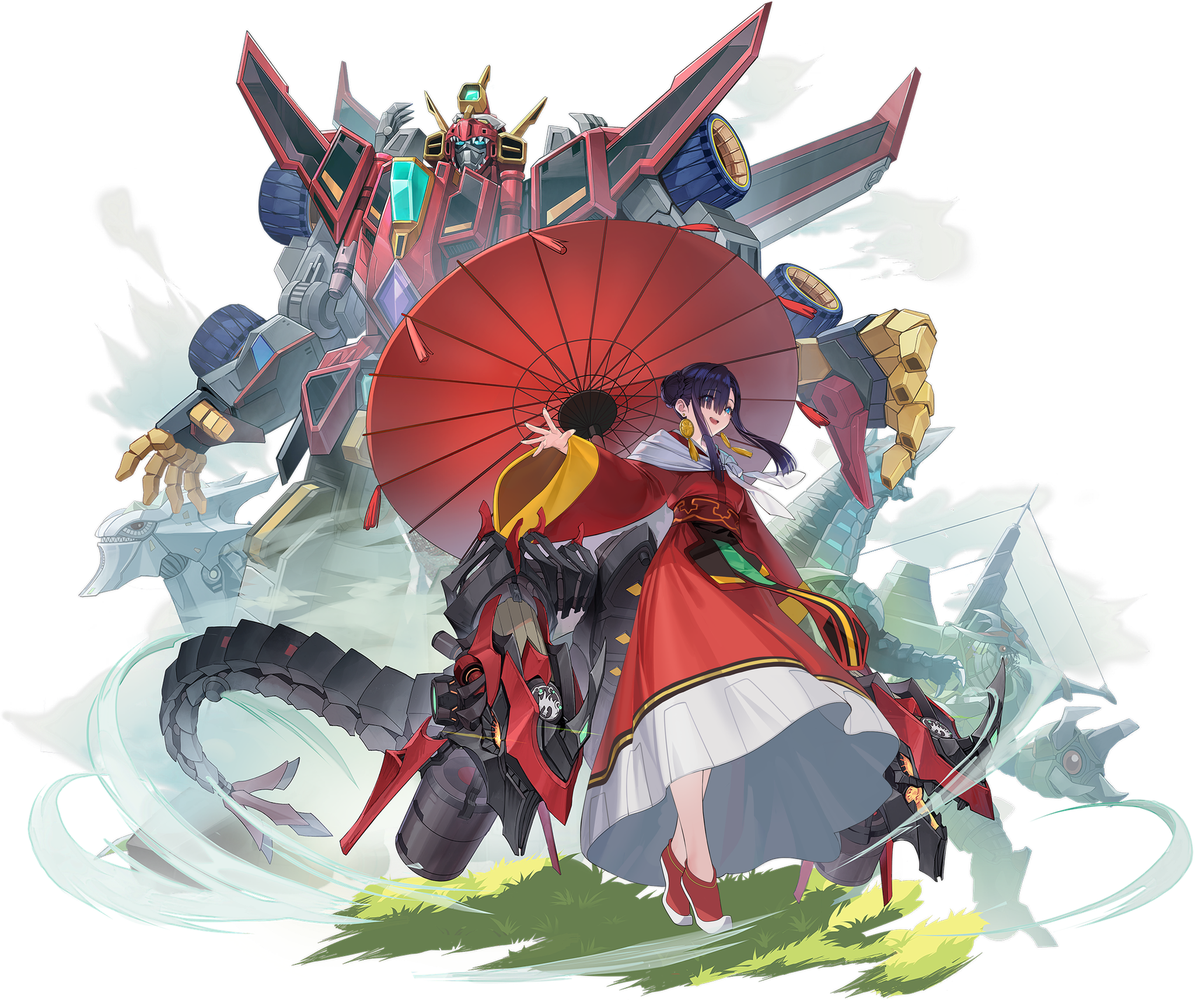person: (137, 335, 885, 959)
